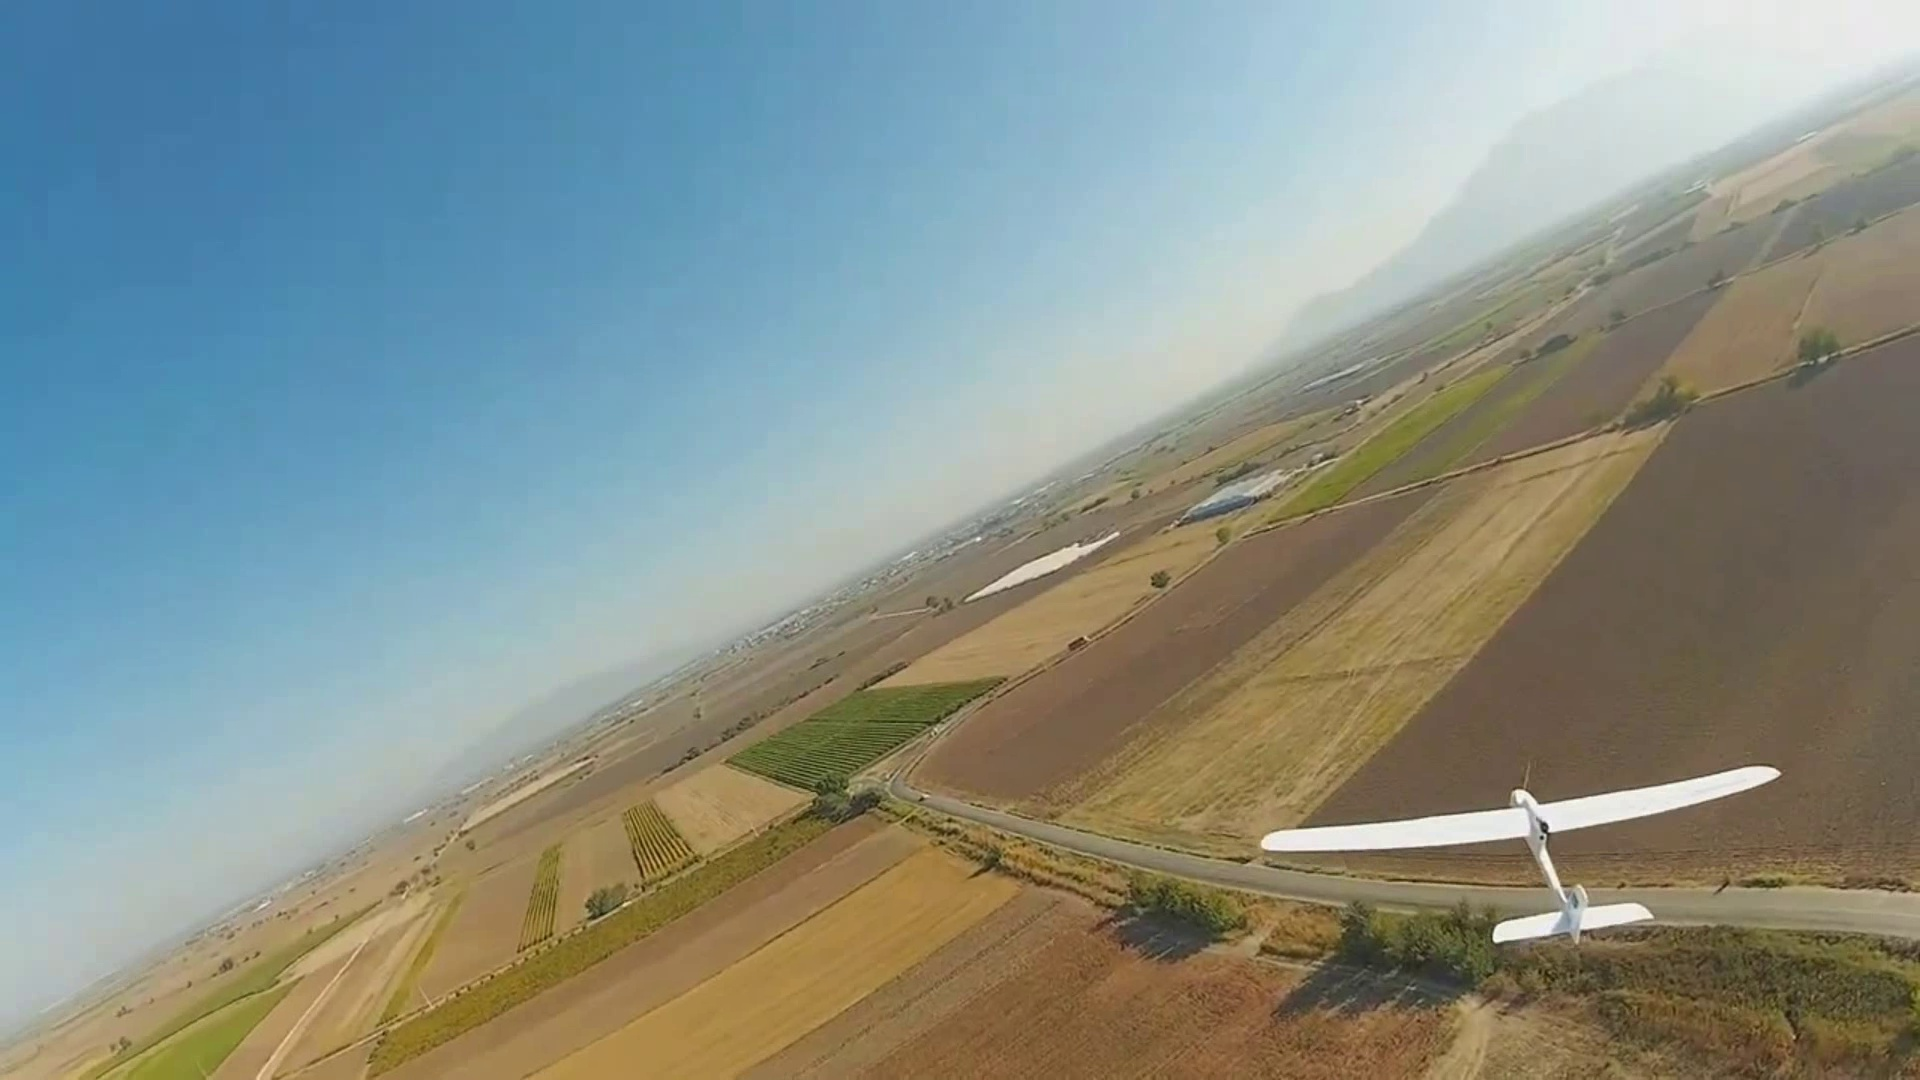airplane: (29, 42, 1916, 960)
